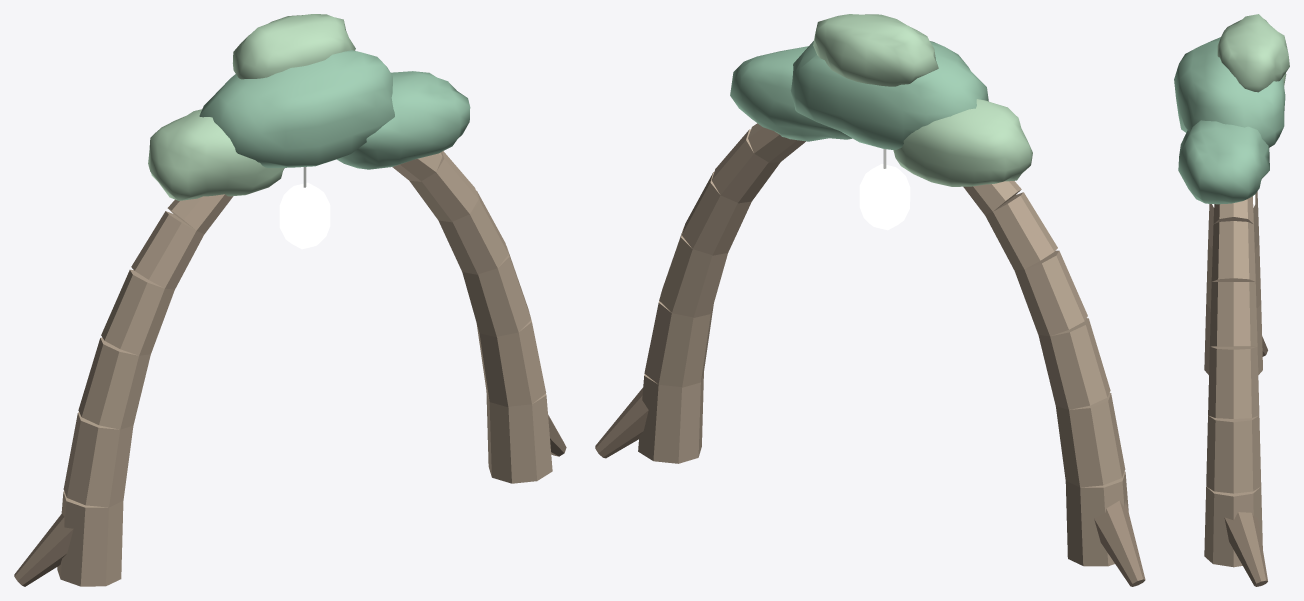
File: prop_elf_arch.glb
The picture shows the model from 3 angles, left to right: view 1: azimuth 30°, elevation 25°; view 2: azimuth 150°, elevation 25°; view 3: azimuth 270°, elevation 25°; orthographic projection. The views are drawn at different scales.
Visible parts, largest first — view 1: prop_elf_arch; view 2: prop_elf_arch; view 3: prop_elf_arch.
Part boxes in pixels (x1=…): prop_elf_arch: x1=14, y1=14, x2=566, y2=586; prop_elf_arch: x1=595, y1=14, x2=1145, y2=586; prop_elf_arch: x1=1174, y1=14, x2=1289, y2=586.
Size of the model in its own units: 6.12 by 5.34 by 1.26.
